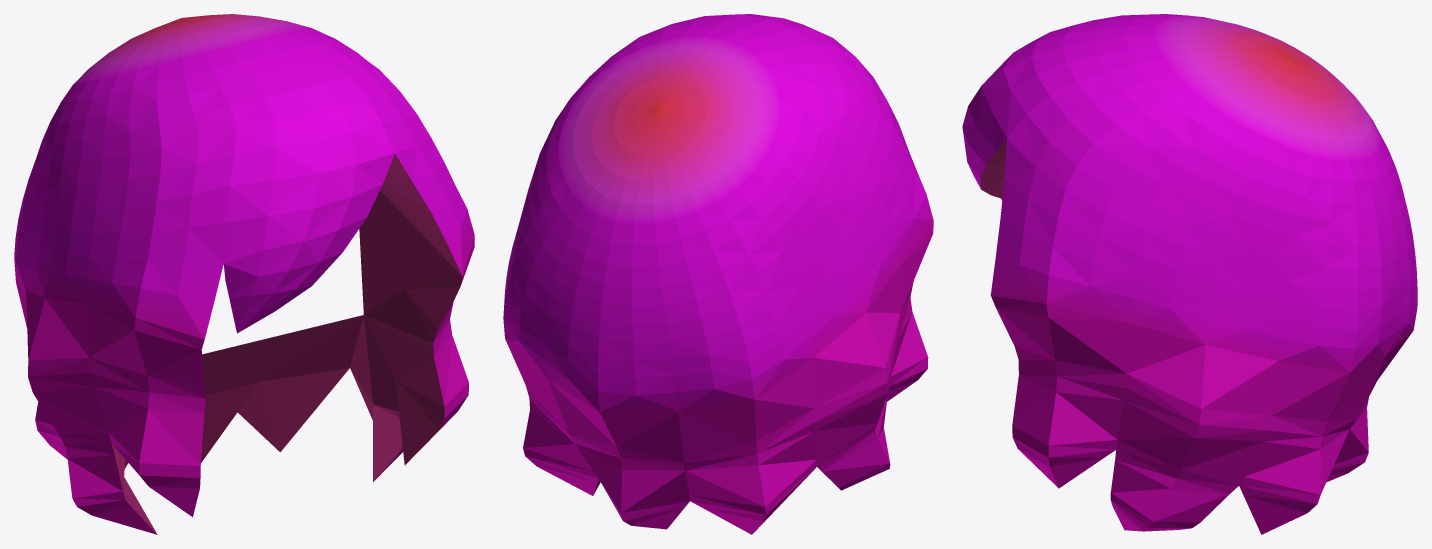
3 renders of one model, left to right at view 1: azimuth 30°, elevation 25°; view 2: azimuth 150°, elevation 25°; view 3: azimuth 270°, elevation 25°, orthographic. The views are drawn at different scales.
Parts seen in each view (by area): view 1: shape; view 2: shape; view 3: shape.
Boxes of the visible parts, x1,y1,x2,y2 form: shape: [14, 14, 474, 534]; shape: [503, 14, 933, 534]; shape: [962, 14, 1417, 534].
Bounding box in the file's own units: 69.38 × 80.1 × 70.3.
